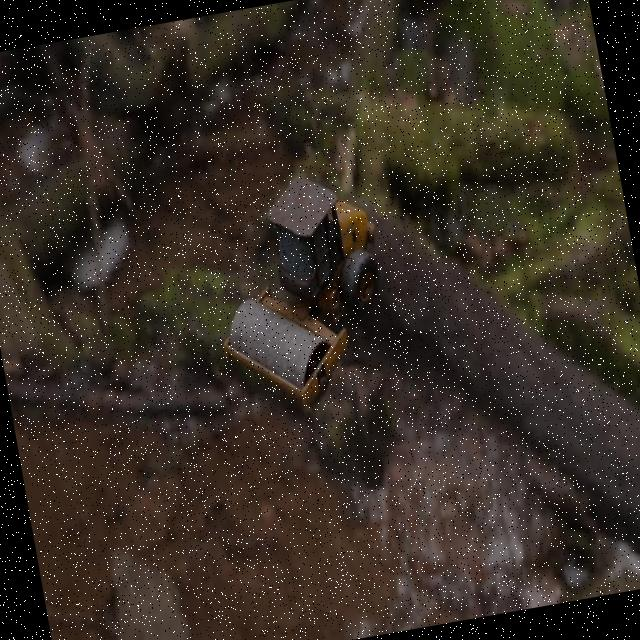Roller: (195, 163, 403, 419)
